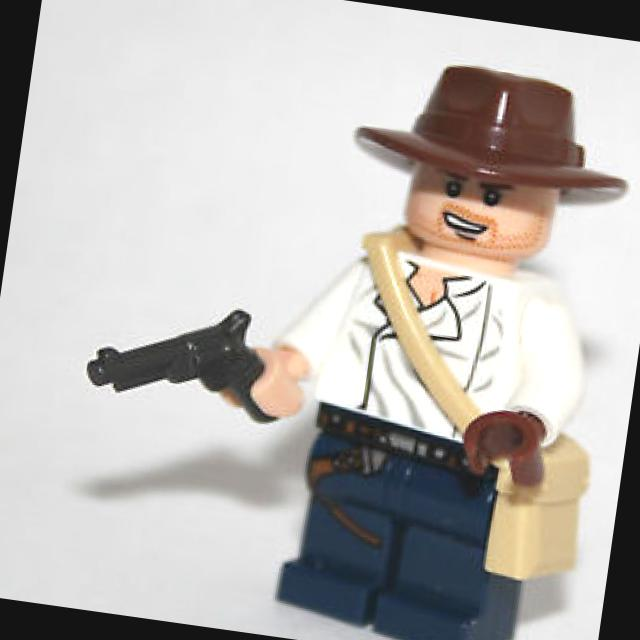handgun: (70, 285, 298, 429)
